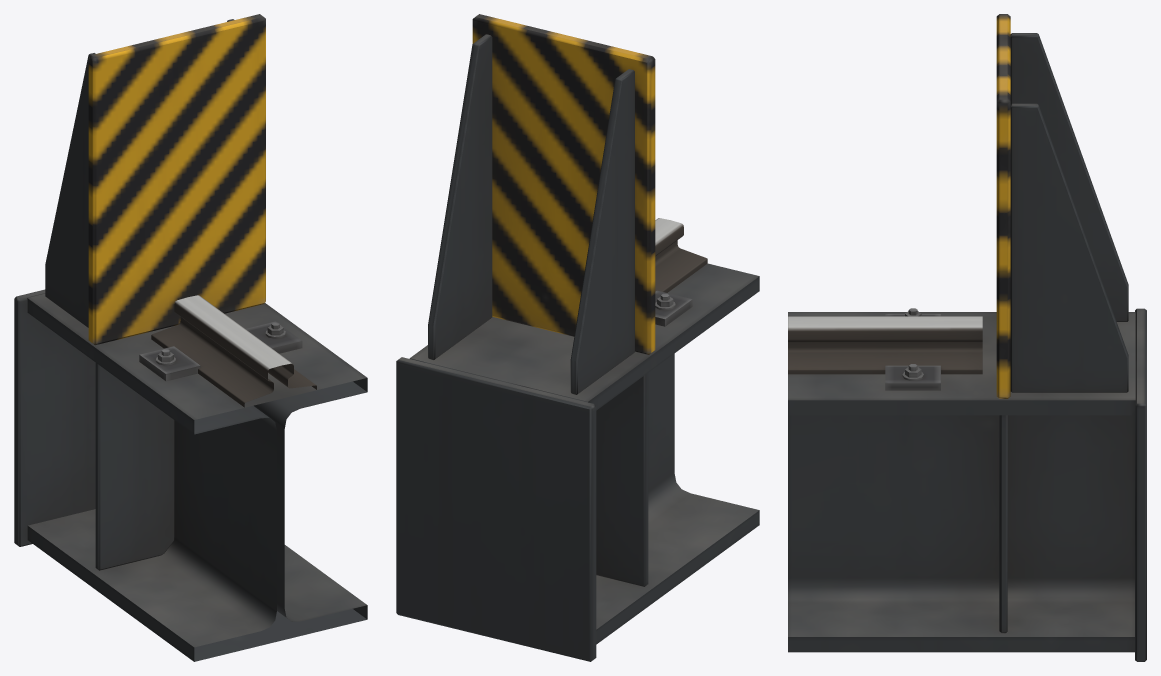
Rendered from Runway_EndStop.fbx.
3 views of the same model, side by side, from view 1: azimuth 30°, elevation 25°; view 2: azimuth 150°, elevation 25°; view 3: azimuth 270°, elevation 25° (orthographic). The views are drawn at different scales.
Parts seen in each view (by area): view 1: Runway_EndStop_LOD0; view 2: Runway_EndStop_LOD0; view 3: Runway_EndStop_LOD0.
Boxes of the visible parts, x1,y1,x2,y2 form: Runway_EndStop_LOD0: [14, 14, 367, 661]; Runway_EndStop_LOD0: [396, 14, 759, 661]; Runway_EndStop_LOD0: [788, 14, 1146, 661].
Size of what is drawn, in the model's own units: 0.33 by 0.885 by 0.516.
Materials: 1 (1 with a texture image).
